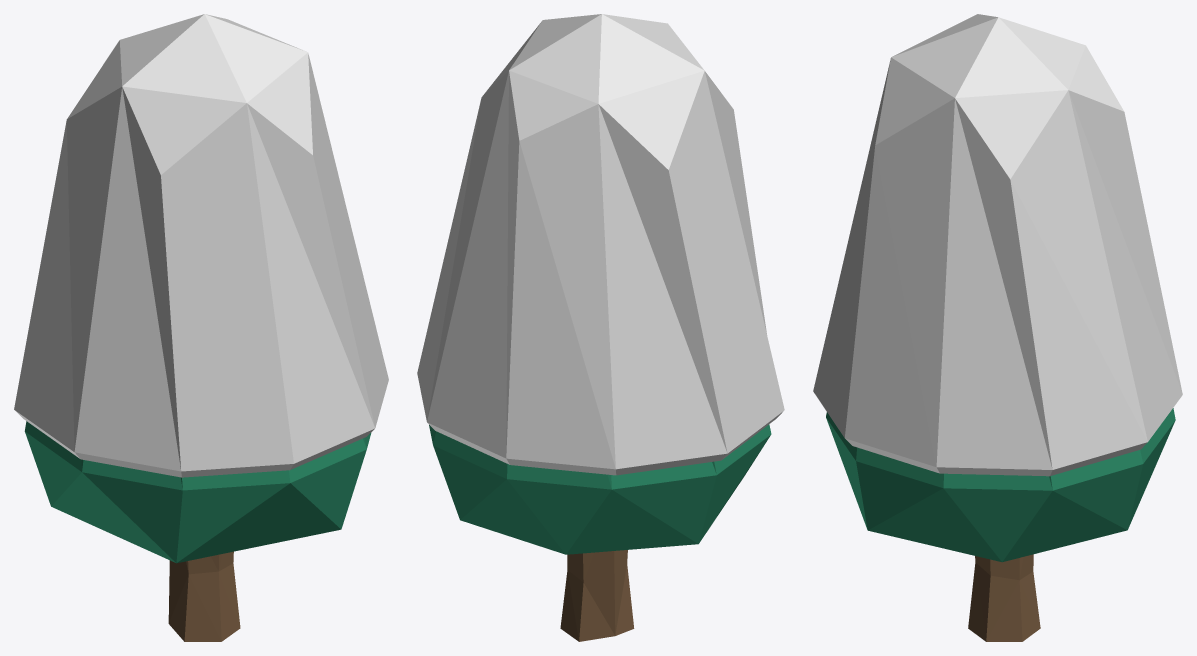
The model's file is LimbaZima.fbx.
3 views of the same model, side by side, from view 1: azimuth 30°, elevation 25°; view 2: azimuth 150°, elevation 25°; view 3: azimuth 270°, elevation 25° (orthographic).
Parts seen in each view (by area): view 1: LimbaZima; view 2: LimbaZima; view 3: LimbaZima.
Boxes of the visible parts, <box> form: LimbaZima: <box>14,14,388,641</box>; LimbaZima: <box>417,14,784,641</box>; LimbaZima: <box>813,14,1182,641</box>.
Size of the model in its own units: 386 by 718 by 394.
